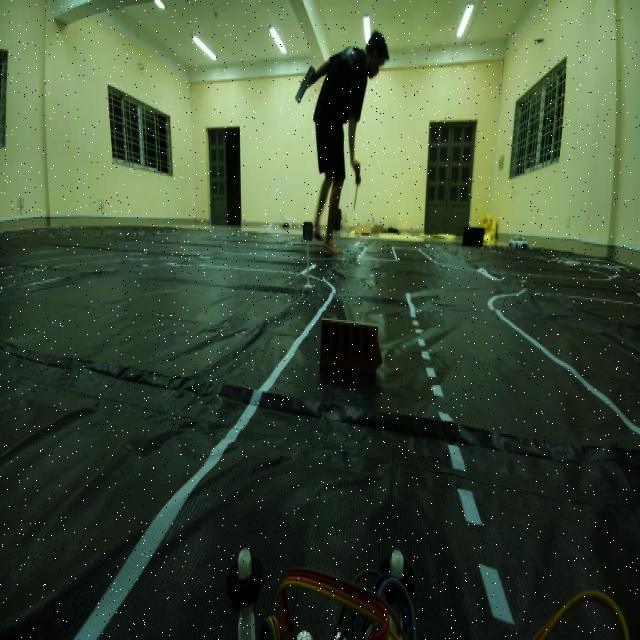roadblock: (312, 304, 389, 387)
